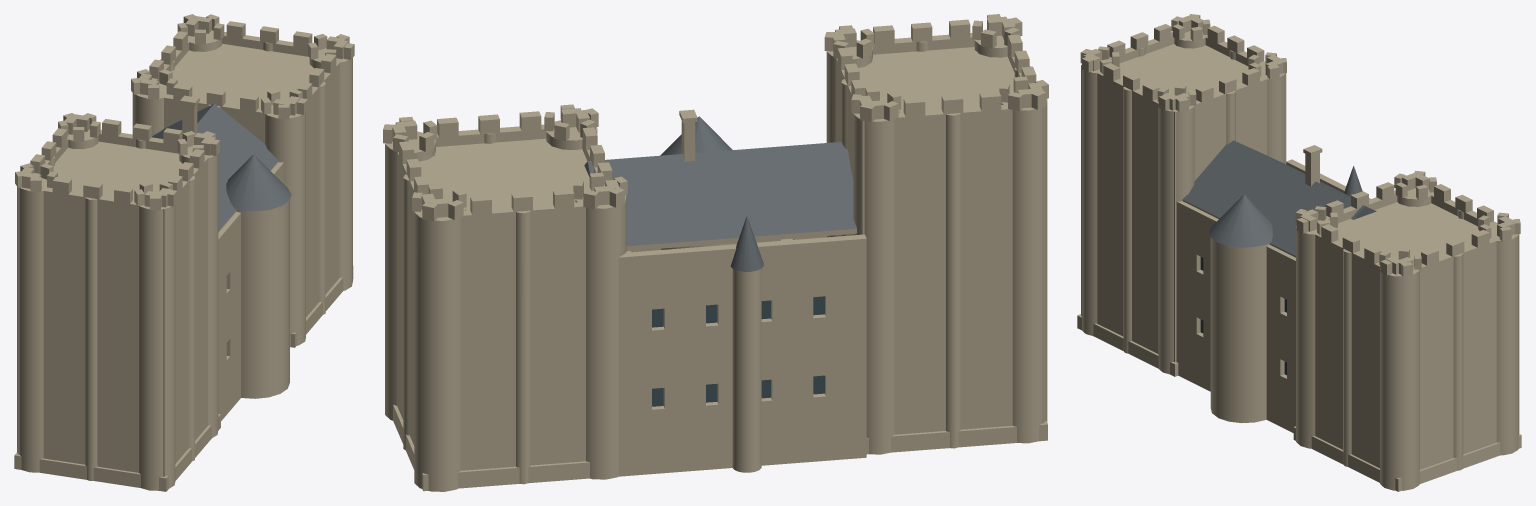
The model's file is donjon-de-niort-far.glb.
3 renders of one model, left to right at view 1: azimuth 30°, elevation 25°; view 2: azimuth 150°, elevation 25°; view 3: azimuth 270°, elevation 25°, orthographic. The views are drawn at different scales.
Parts seen in each view (by area): view 1: donjon-de-niort-0-plaster, donjon-de-niort-0-roof; view 2: donjon-de-niort-0-plaster, donjon-de-niort-0-roof, donjon-de-niort-0-glass; view 3: donjon-de-niort-0-plaster, donjon-de-niort-0-roof.
Part boxes in pixels (bbox=[...]): donjon-de-niort-0-plaster: bbox=[14, 14, 354, 491]; donjon-de-niort-0-roof: bbox=[152, 103, 291, 230]; donjon-de-niort-0-plaster: bbox=[383, 14, 1048, 491]; donjon-de-niort-0-roof: bbox=[584, 116, 856, 271]; donjon-de-niort-0-glass: bbox=[652, 296, 824, 406]; donjon-de-niort-0-plaster: bbox=[1077, 14, 1521, 491]; donjon-de-niort-0-roof: bbox=[1182, 140, 1376, 255].
Size of the model in its own units: 44.94 by 28 by 41.17.
